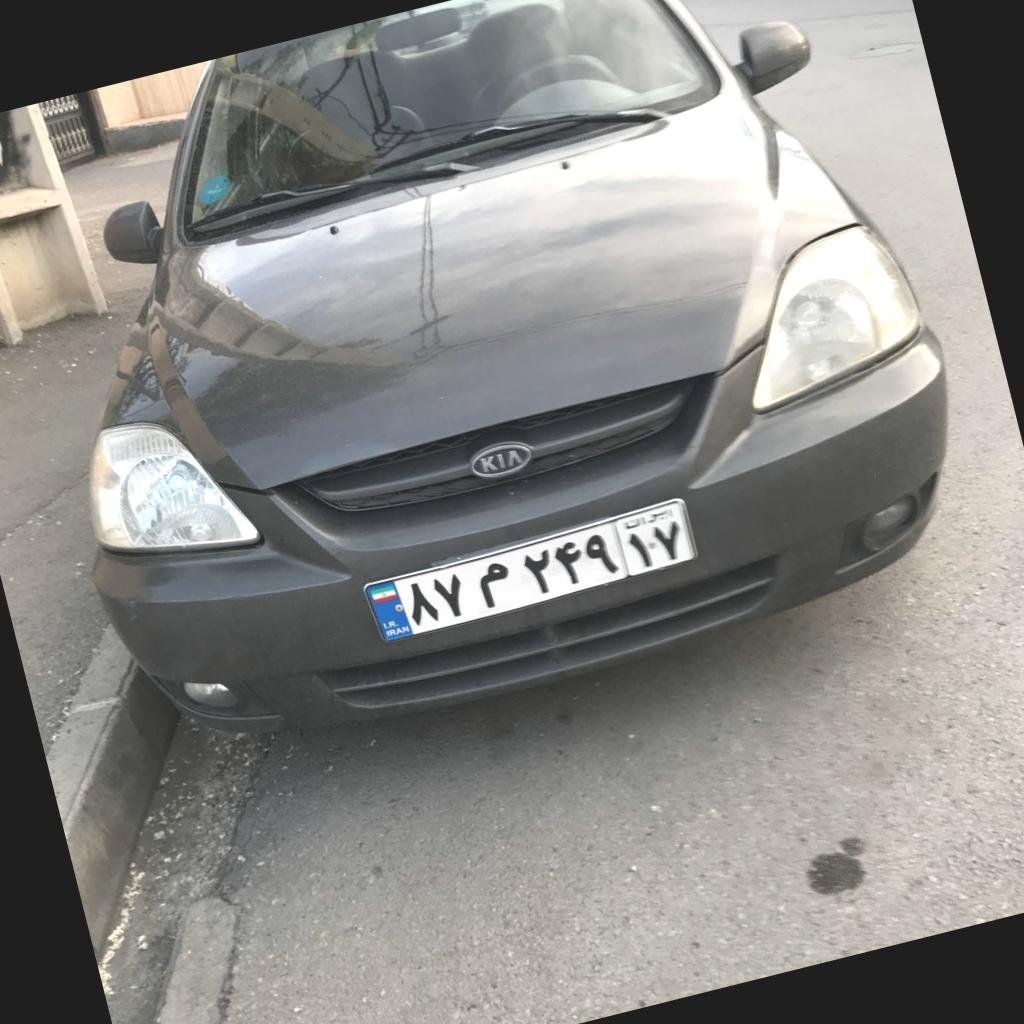Plates: (364, 500, 695, 642)
